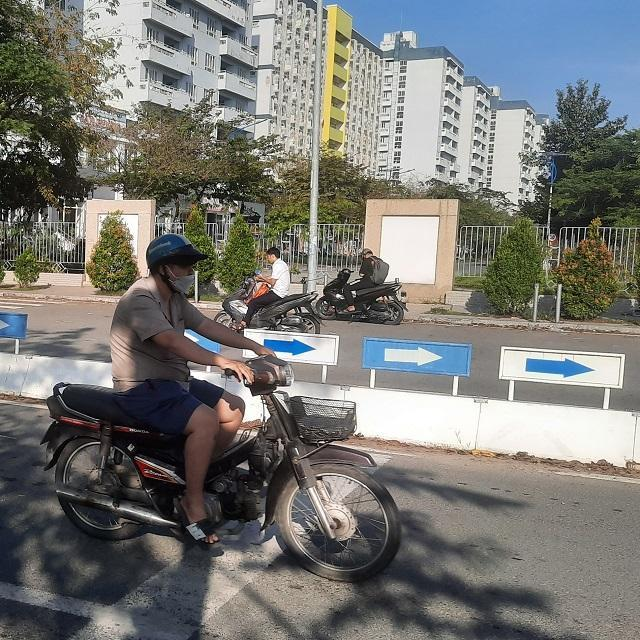Helmet: (144, 234, 208, 294)
